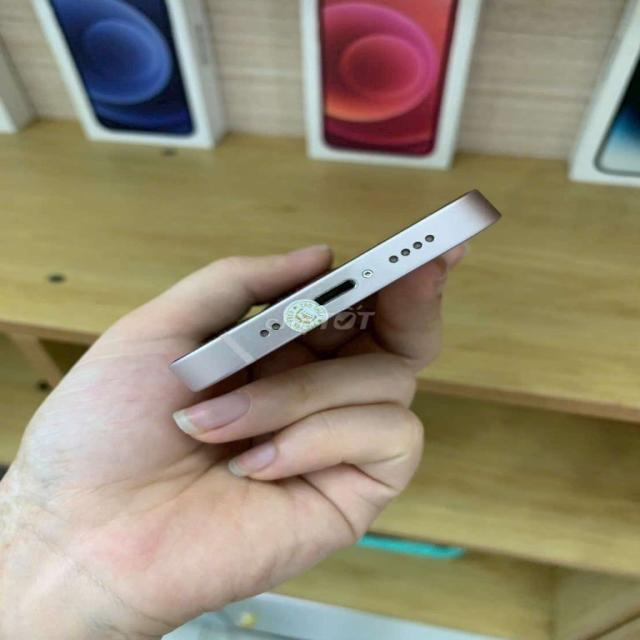gen_12_13: (163, 189, 516, 395)
